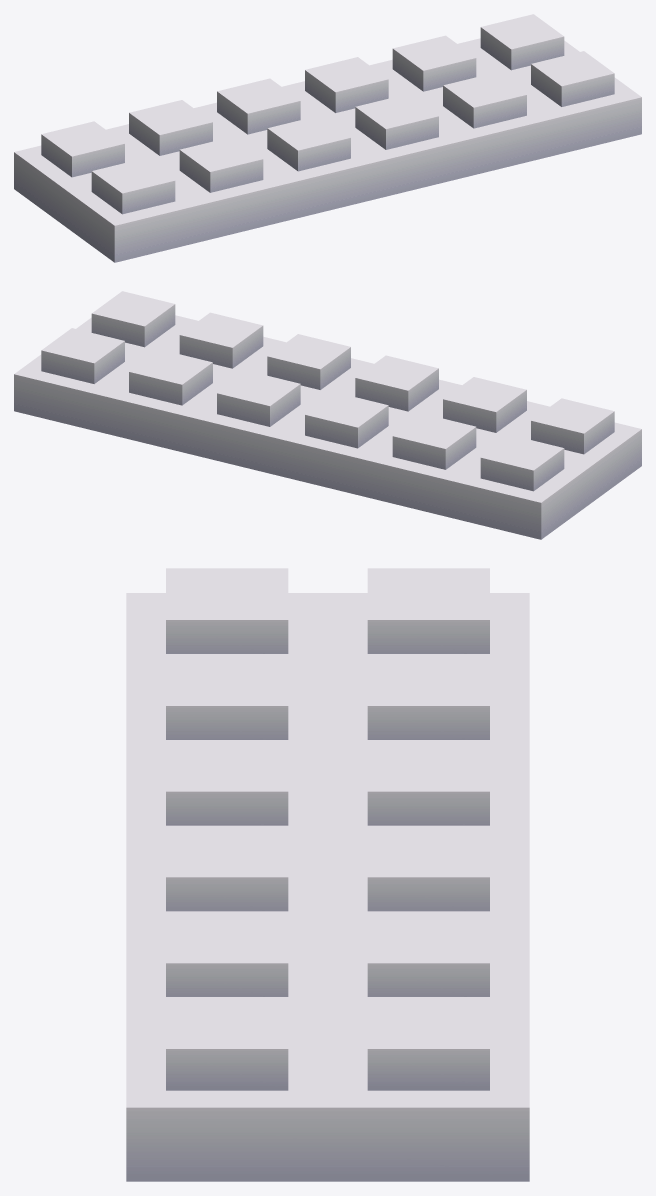
The model's file is square-lq-plate-2x6.glb.
3 renders of one model, top to bottom at view 1: azimuth 30°, elevation 25°; view 2: azimuth 150°, elevation 25°; view 3: azimuth 270°, elevation 25°, orthographic. The views are drawn at different scales.
Parts seen in each view (by area): view 1: square-lq-plate-2x6; view 2: square-lq-plate-2x6; view 3: square-lq-plate-2x6.
Boxes of the visible parts, x1,y1,x2,y2 form: square-lq-plate-2x6: [14, 14, 641, 262]; square-lq-plate-2x6: [14, 291, 641, 539]; square-lq-plate-2x6: [126, 568, 529, 1181].
Bounding box in the file's own units: 0.477 × 0.05 × 0.158.
Materials: 1 (1 with a texture image).
